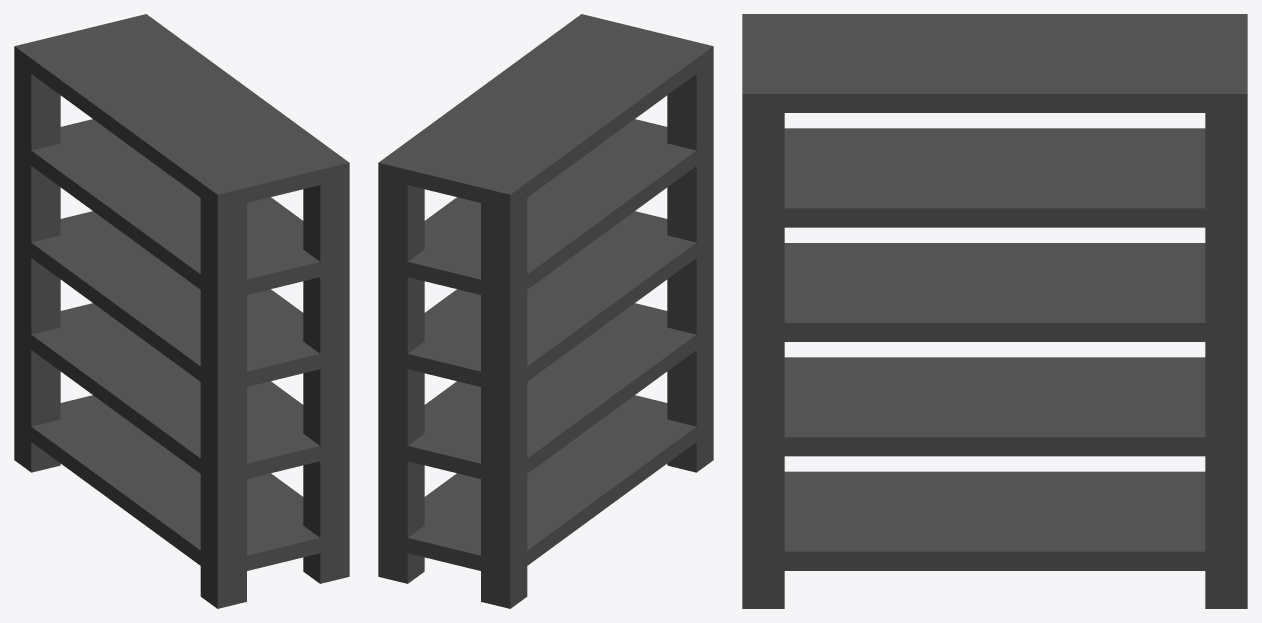
The model's file is lvl1-18.obj.
3 views of the same model, side by side, from view 1: azimuth 30°, elevation 25°; view 2: azimuth 150°, elevation 25°; view 3: azimuth 270°, elevation 25° (orthographic). The views are drawn at different scales.
Size of the model in its own units: 0.9 by 2.7 by 2.4.
Materials: 1 (1 with a texture image).
